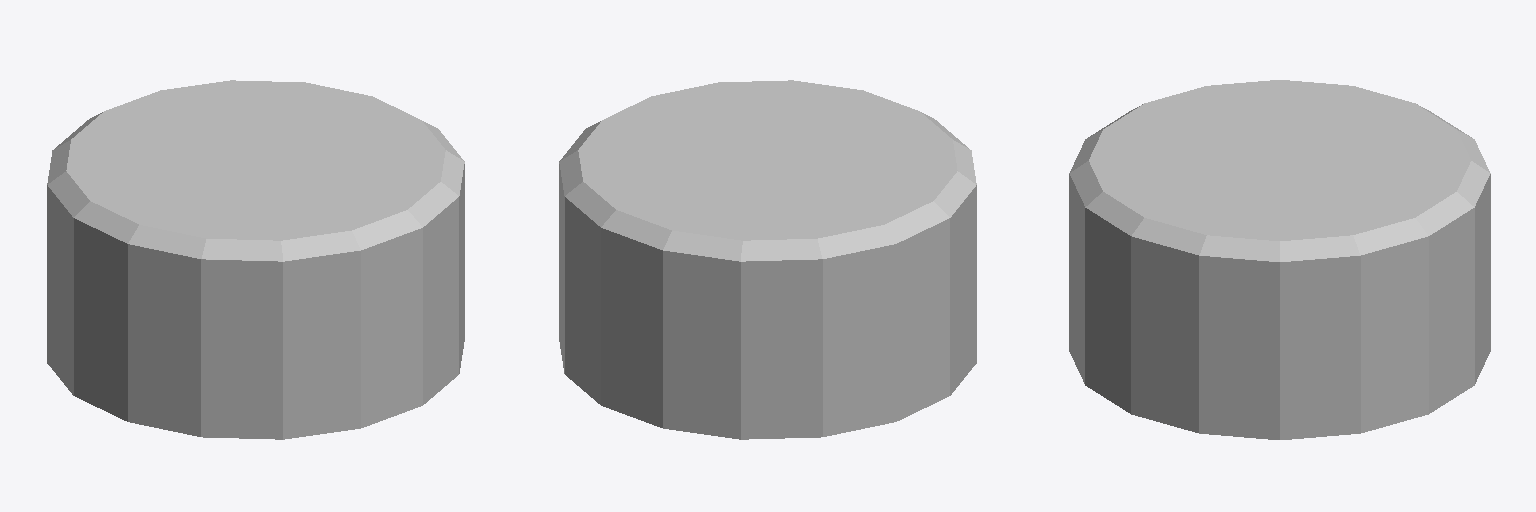
The model's file is switch.obj.
3 renders of one model, left to right at view 1: azimuth 30°, elevation 25°; view 2: azimuth 150°, elevation 25°; view 3: azimuth 270°, elevation 25°, orthographic.
Visible parts, largest first — view 1: Switch_Cylinder.017; view 2: Switch_Cylinder.017; view 3: Switch_Cylinder.017.
Boxes of the visible parts, box(x1,y1,x2,y2) form: Switch_Cylinder.017: box(47, 80, 464, 439); Switch_Cylinder.017: box(559, 80, 976, 439); Switch_Cylinder.017: box(1069, 80, 1490, 439).
Bounding box in the file's own units: 0.3 × 0.15 × 0.3.